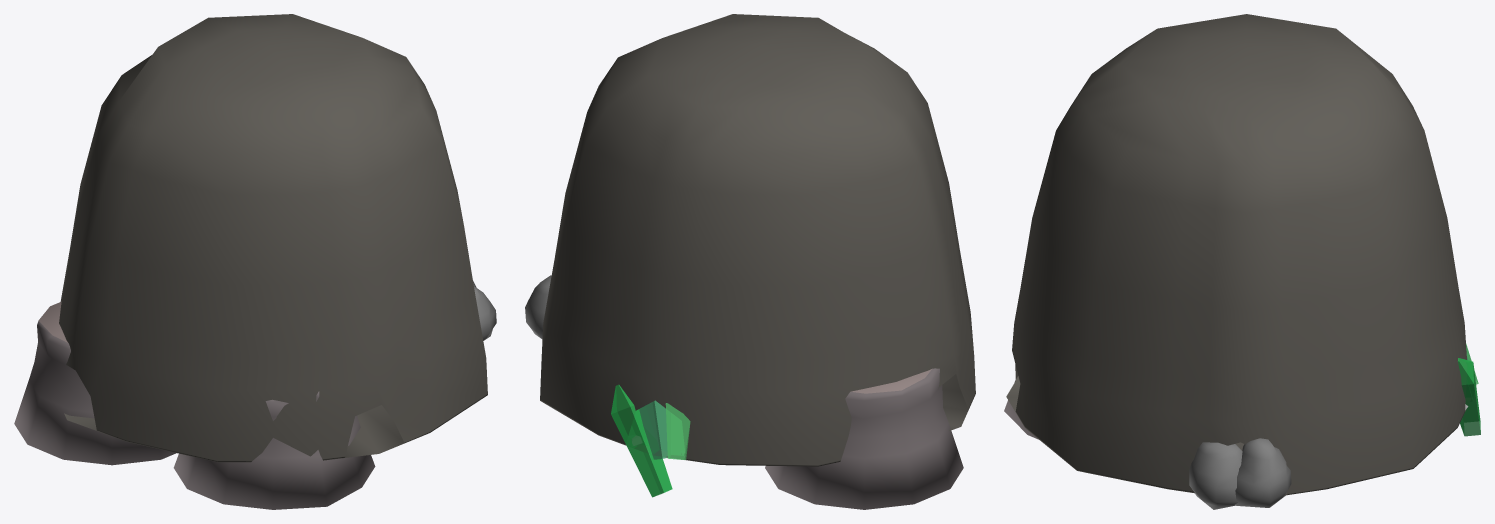
File: cuevaAsstesGrandes.fbx
The picture shows the model from 3 angles, left to right: view 1: azimuth 30°, elevation 25°; view 2: azimuth 150°, elevation 25°; view 3: azimuth 270°, elevation 25°; orthographic projection. The views are drawn at different scales.
Visible parts, largest first — view 1: CuevaCuerpo, monticulo2, monticulo1, piedraGrande2; view 2: CuevaCuerpo, monticulo1, cirstalesGrandes, piedraGrande1; view 3: CuevaCuerpo, piedraGrande1, piedraGrande2, cirstalesGrandes.
Part boxes in pixels (left/top/right/bottom): CuevaCuerpo: left=59, top=14, right=487, bottom=462; monticulo2: left=173, top=391, right=375, bottom=509; monticulo1: left=14, top=301, right=176, bottom=465; piedraGrande2: left=474, top=287, right=496, bottom=340; CuevaCuerpo: left=540, top=14, right=975, bottom=466; monticulo1: left=765, top=368, right=963, bottom=509; cirstalesGrandes: left=611, top=384, right=690, bottom=497; piedraGrande1: left=525, top=275, right=551, bottom=339; CuevaCuerpo: left=1006, top=14, right=1470, bottom=495; piedraGrande1: left=1235, top=438, right=1291, bottom=507; piedraGrande2: left=1189, top=442, right=1242, bottom=509; cirstalesGrandes: left=1457, top=343, right=1480, bottom=436.
Size of the model in its own units: 3354 by 2707 by 2977.
